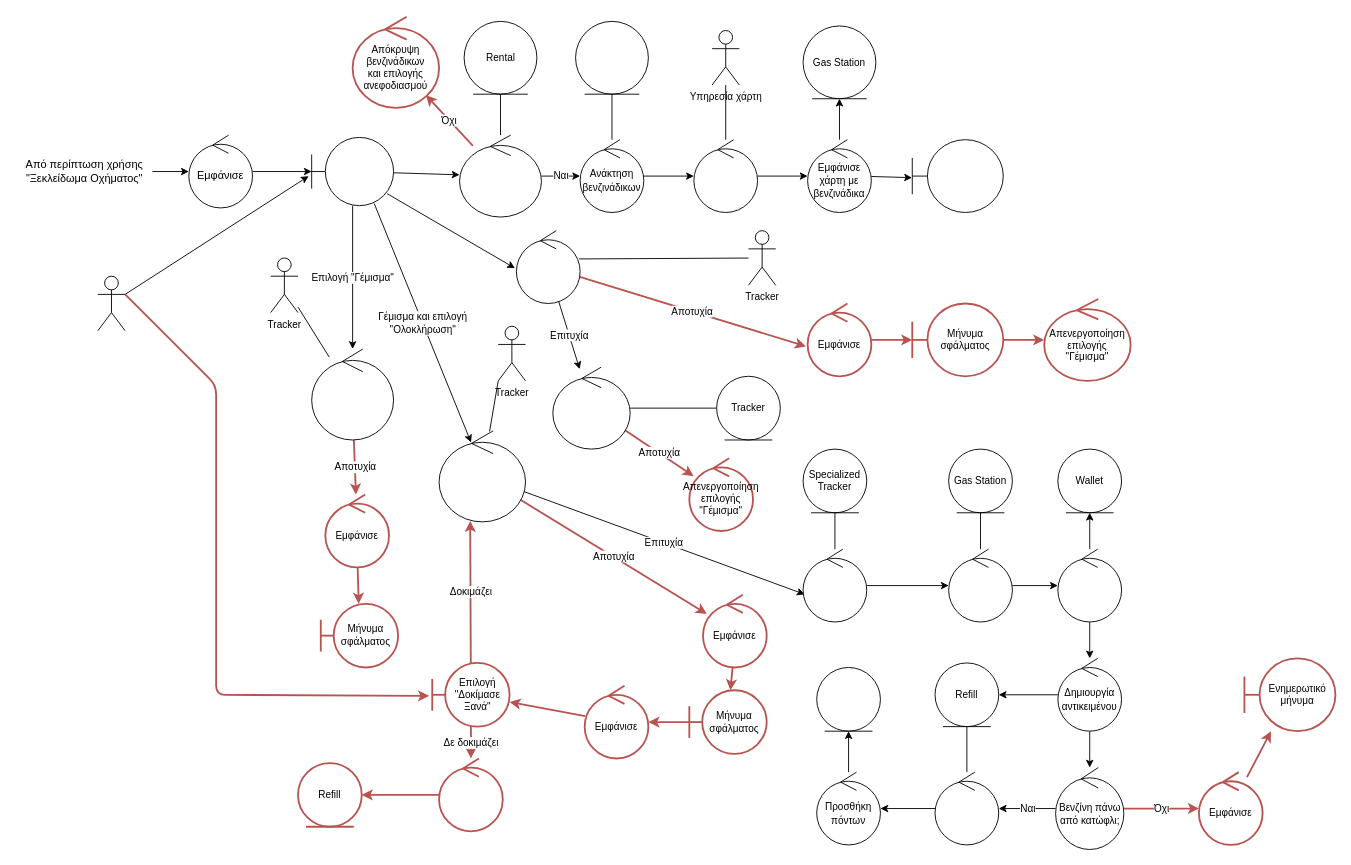
This 1351x865 diagram has some shape labels left out. The centre of each missing label's shape, as x and y in pixels:
"Service" belongs at pixel 848 699.
"Αναζήτηση πλησιέστερου βενζινάδικου" belongs at pixel 591 407.
"Βάση Δεδομένων" belongs at pixel 611 57.
"Επικοινωνία με tracker για αρχικό επίπεδο βενζίνης" belongs at pixel 352 394.
"Επικοινωνία με tracker για τελικό επίπεδο βενζίνης" belongs at pixel 482 476.
"Επικοινωνία με tracker για τοποθεσία" belongs at pixel 548 266.
"Επικοινωνία με υπηρεσία χάρτη" belongs at pixel 725 175.
"Μπορέι το όχημα να λάβει καύσιμα" belongs at pixel 500 175.
"Οθόνη μετακίνησης" belongs at pixel 352 171.
"Πελάτης" belongs at pixel 111 303.
"Προσθήκη στο πορτοφόλι" belongs at pixel 1089 585.
"Τερματισμός ανεφοδιασμού" belongs at pixel 470 794.
"Υπολογισμός βενζίνης" belongs at pixel 834 585.
"Υπολογισμός κόστους βενζίνης" belongs at pixel 980 585.
"Υπολογισμός πόντων" belongs at pixel 966 808.
"Χάρτης με βενζινάδικα" belongs at pixel 957 175.
